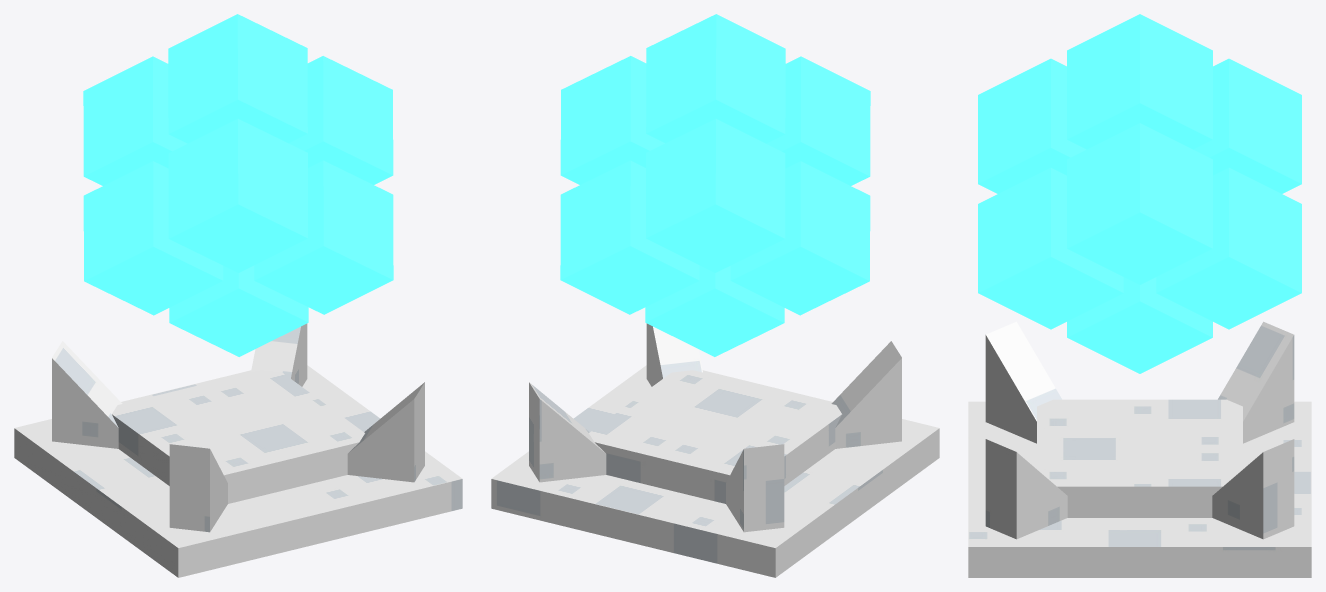
Rendered from C3_TP point_01.FBX.
3 renders of one model, left to right at view 1: azimuth 30°, elevation 25°; view 2: azimuth 150°, elevation 25°; view 3: azimuth 270°, elevation 25°, orthographic. The views are drawn at different scales.
Visible parts, largest first — view 1: Box004, Box001, Object003; view 2: Box004, Box001, Object003; view 3: Box004, Box001, Object003.
Boxes of the visible parts, x1=… form: Box004: x1=83, y1=14, x2=393, y2=356; Box001: x1=14, y1=365, x2=462, y2=577; Object003: x1=52, y1=323, x2=424, y2=532; Box004: x1=560, y1=14, x2=870, y2=356; Box001: x1=491, y1=365, x2=939, y2=577; Object003: x1=529, y1=323, x2=901, y2=532; Box004: x1=978, y1=14, x2=1301, y2=373; Box001: x1=968, y1=399, x2=1311, y2=577; Object003: x1=985, y1=321, x2=1294, y2=539.
Size of the model in its own units: 128 by 186 by 118.
Materials: 1 (1 with a texture image).
